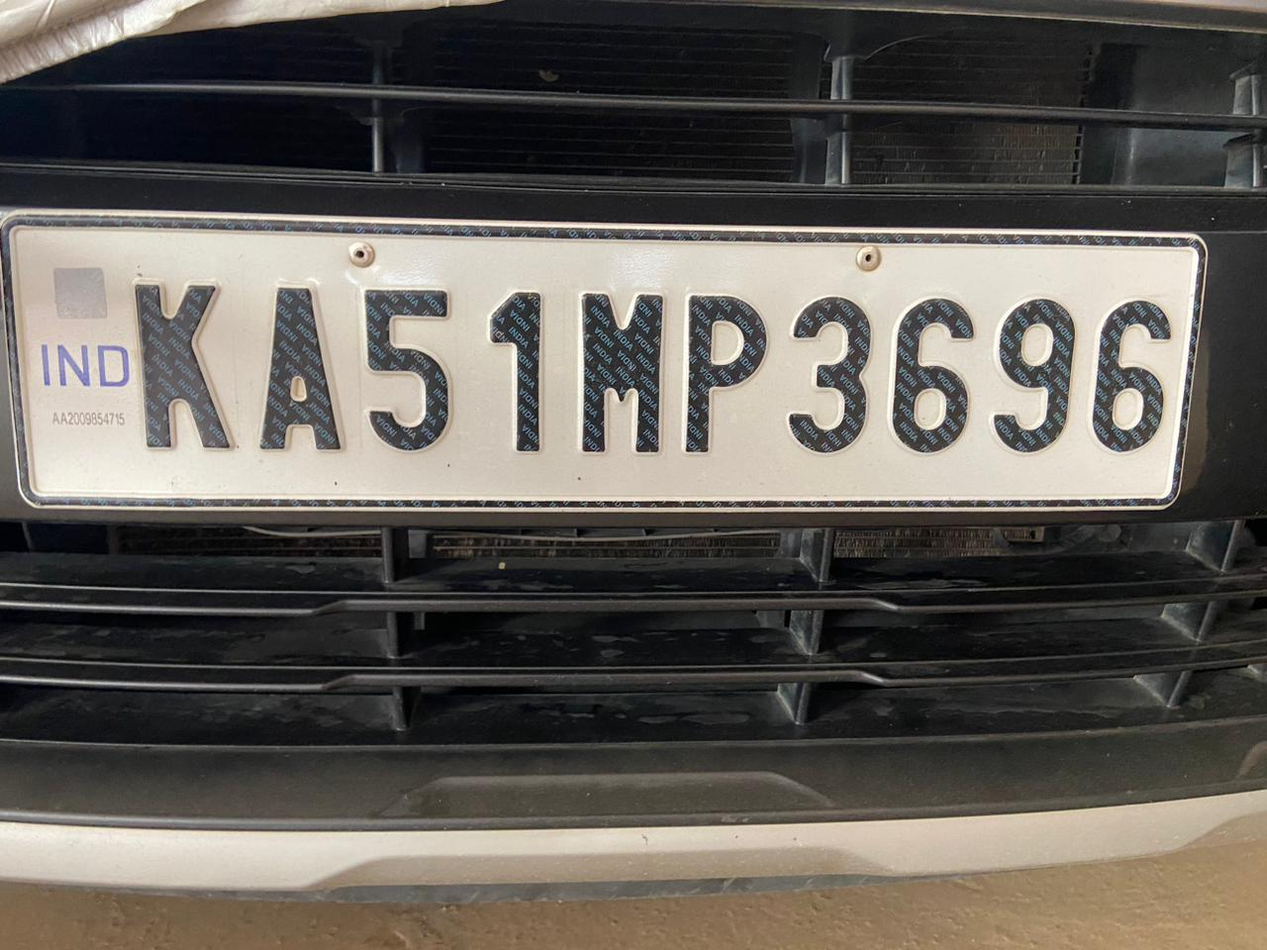1: (478, 279, 560, 469)
3: (780, 277, 878, 463)
5: (351, 276, 471, 469)
6: (1089, 268, 1186, 470), (887, 285, 978, 466)
9: (994, 277, 1083, 461)
A: (254, 276, 361, 463), (256, 283, 349, 459)
K: (121, 274, 247, 464)
M: (567, 279, 672, 464)
P: (679, 279, 775, 467)
